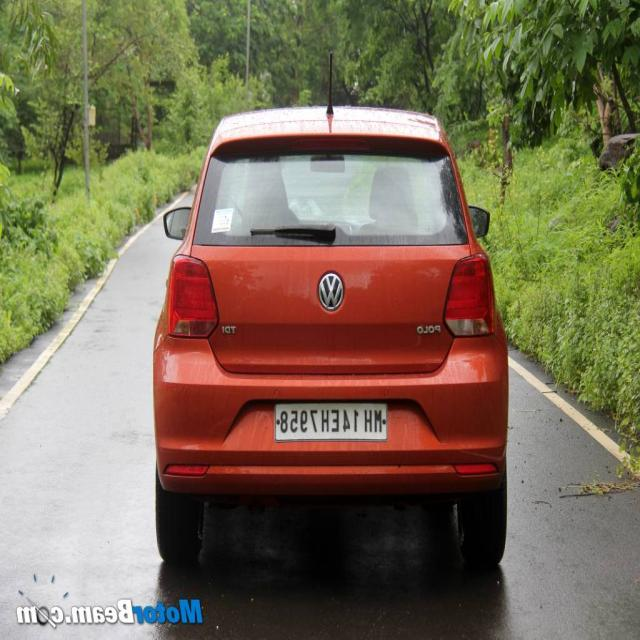number-plate: (269, 384, 393, 454)
